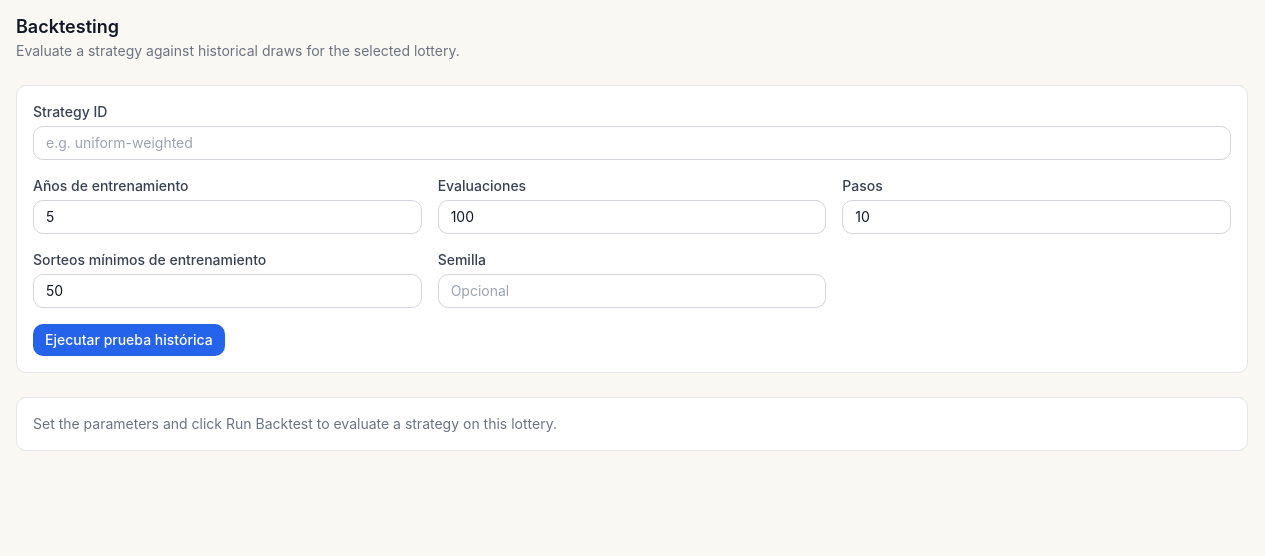
Test: Backtesting › runs a backtest and renders the aggregate metrics
Expected: the heading "Backtesting" is shown, [16,16,119,37]
In the field labelled "Strategy ID": coordinates (632, 143) [33,126,1231,160], type "uniform-weighted"
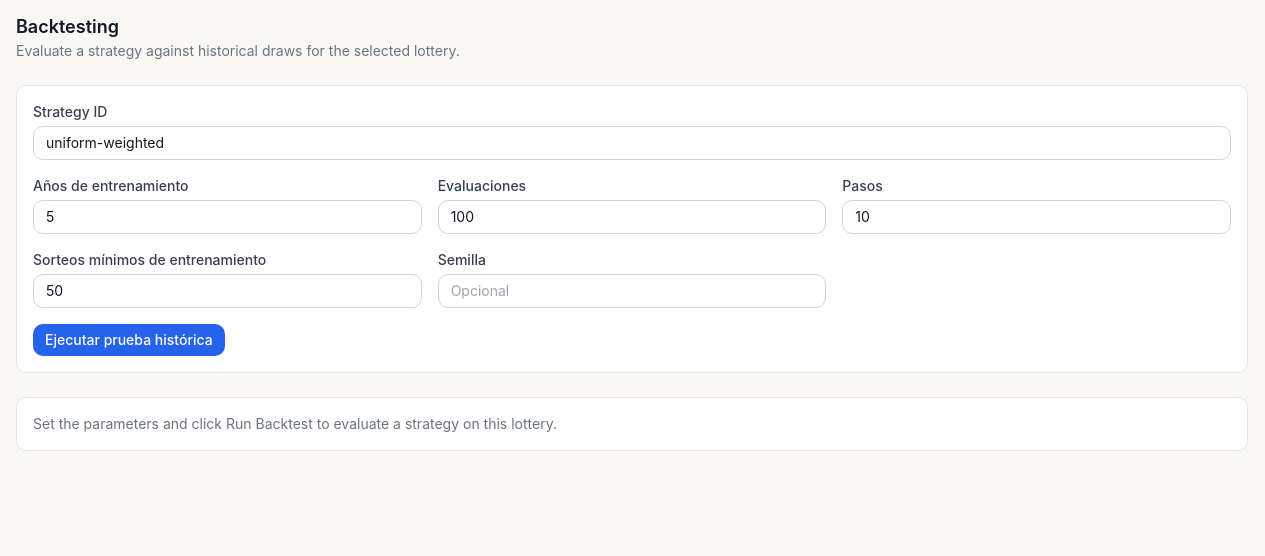
Click the button "Ejecutar prueba histórica": coordinates (129, 340) [33,324,225,356]
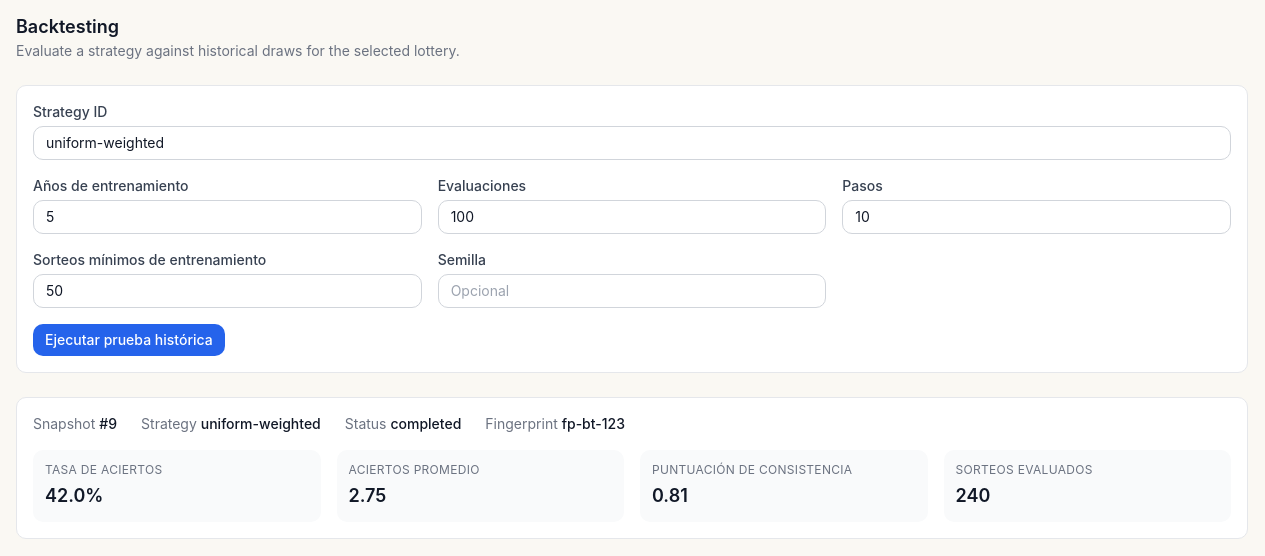
Now the text "#9" is shown, box [99,415,117,432]
Now the text "uniform-weighted" is shown, box [201,415,321,432]
Now the text "fp-bt-123" is shown, box [562,415,625,432]
